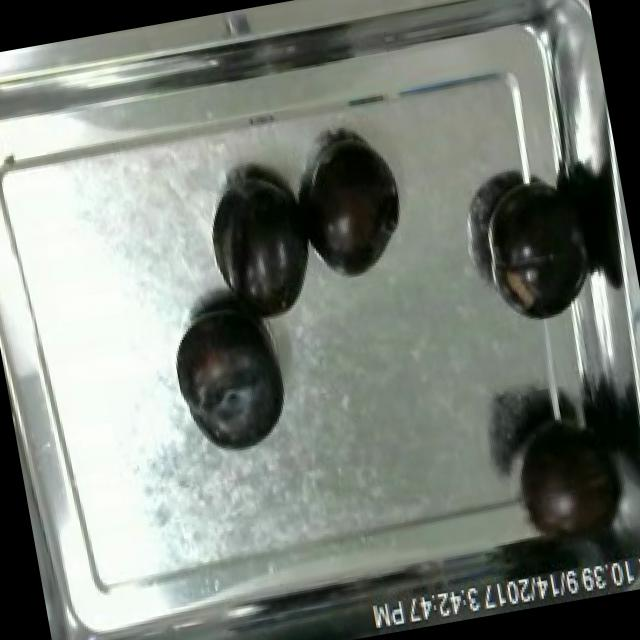Fruit: (464, 161, 608, 340), (162, 288, 302, 466), (200, 167, 328, 334), (499, 406, 636, 556), (291, 136, 417, 288)
